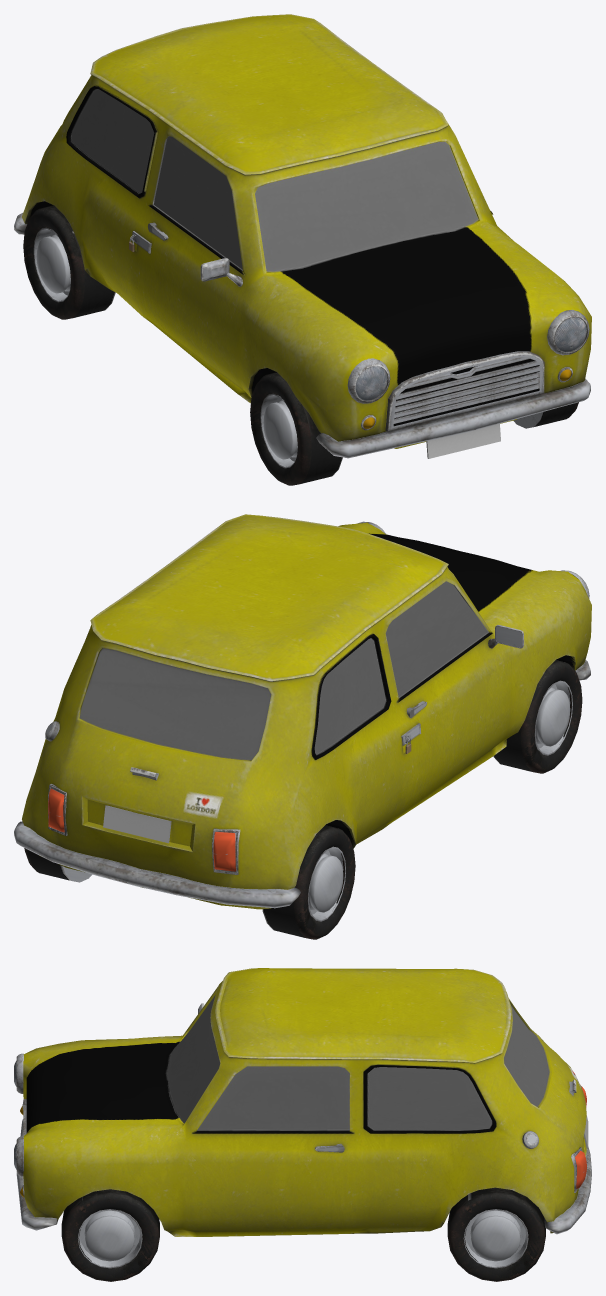
File: mr.bean_car.glb
3 renders of one model, top to bottom at view 1: azimuth 30°, elevation 25°; view 2: azimuth 150°, elevation 25°; view 3: azimuth 270°, elevation 25°, orthographic. The views are drawn at different scales.
Visible parts, largest first — view 1: g (×17); view 2: g (×8); view 3: g (×9).
Part boxes in pixels (x1,y1,x2,y2): g (×17): (22,14,591,485); g (×8): (14,514,591,939); g (×9): (16,968,591,1281).
Size of the model in its own units: 1.04 by 0.8552 by 2.
Materials: 1 (1 with a texture image).
